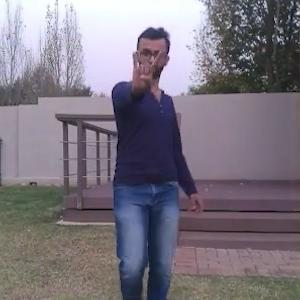takeoff-hand: (122, 43, 162, 94)
